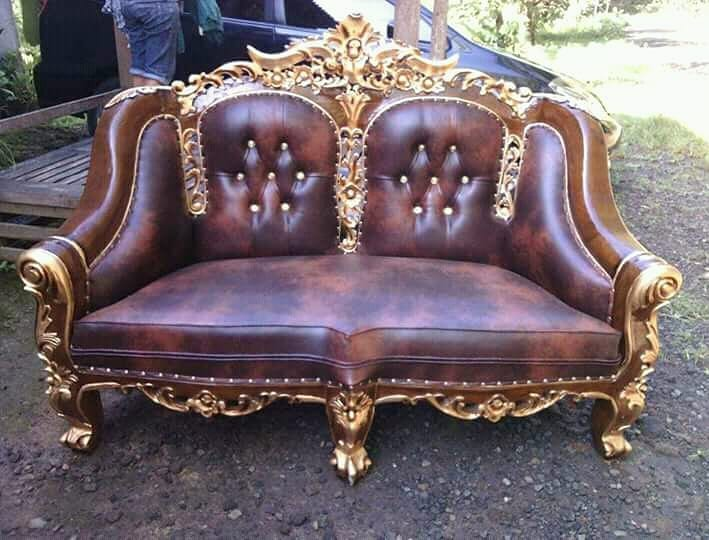Carving Chair: (47, 57, 660, 468)
